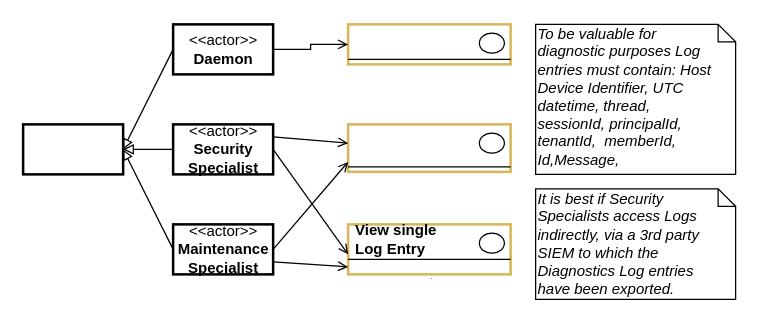
Some shapes in this 758 by 321 pixel diagram are drawn without their labels. Each missing label, with the centre of its shape:
"<<actor>> authorised user" belongs at pixel 72 148.
"Retrieve Paged, Filtered List of SummaryItems of Log Entries" belongs at pixel 428 147.
"Write Entry to Diagnostics Log" belongs at pixel 428 43.
